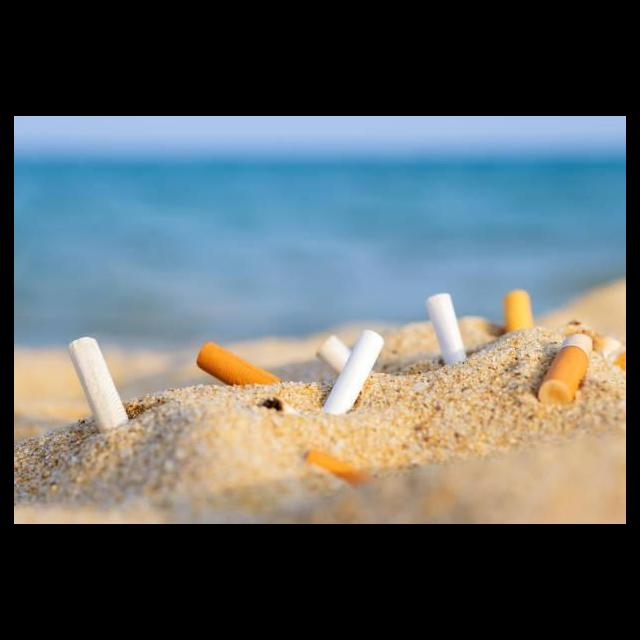Cigarette Butt: (68, 336, 130, 435), (321, 328, 385, 415), (537, 332, 595, 408), (196, 340, 282, 388), (303, 446, 383, 492), (564, 317, 626, 373), (424, 291, 468, 368), (316, 333, 353, 375), (503, 288, 534, 334)
